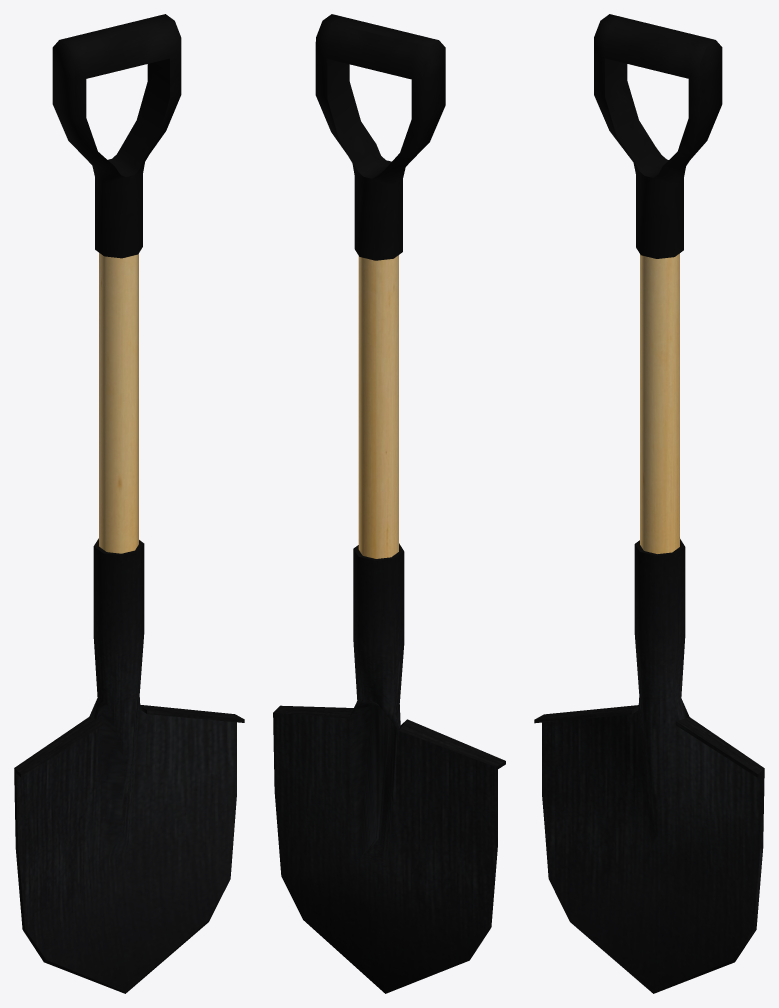
Rendered from PALA.FBX.
3 renders of one model, left to right at view 1: azimuth 30°, elevation 25°; view 2: azimuth 150°, elevation 25°; view 3: azimuth 330°, elevation 25°, orthographic.
Parts seen in each view (by area): view 1: pala; view 2: pala; view 3: pala.
Boxes of the visible parts, <box> form: pala: <box>14,14,244,993</box>; pala: <box>273,14,505,993</box>; pala: <box>534,14,764,993</box>.
Bounding box in the file's own units: 19.18 × 78.57 × 3.83.
